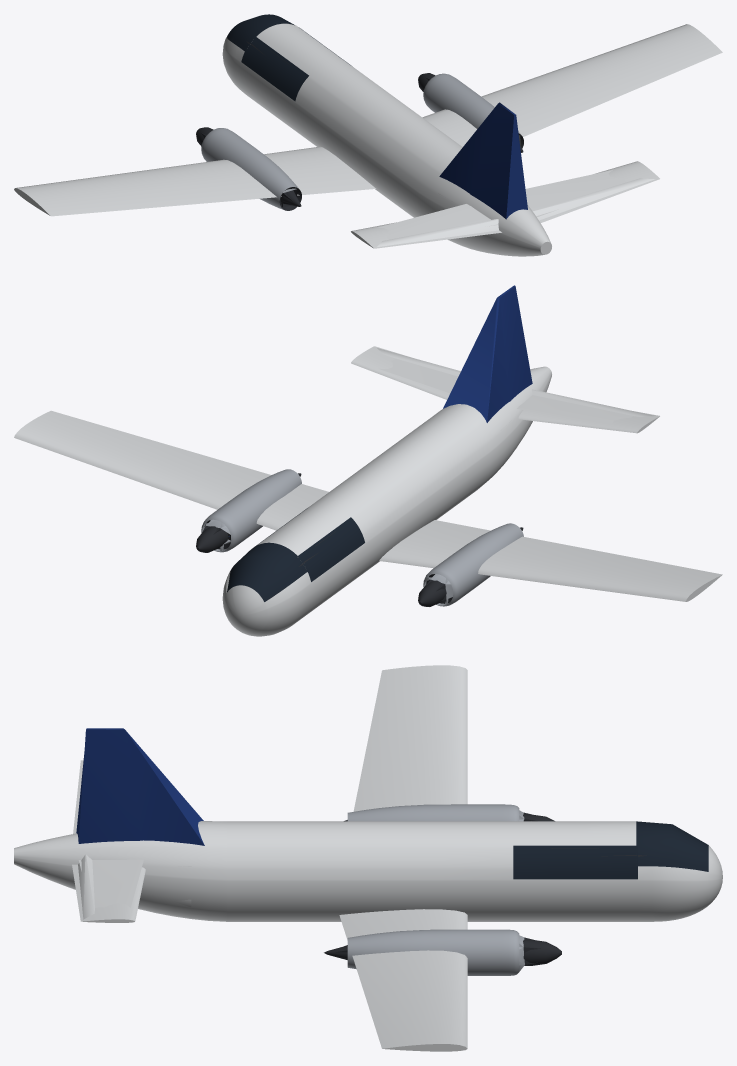
Rendered from lat_twin_piston.dae.
The picture shows the model from 3 angles, top to bottom: view 1: azimuth 30°, elevation 25°; view 2: azimuth 150°, elevation 25°; view 3: azimuth 270°, elevation 25°; orthographic projection. The views are drawn at different scales.
Parts seen in each view (by area): view 1: lat_twin_piston150, lat_twin_piston1, lat_twin_piston32; view 2: lat_twin_piston150, lat_twin_piston1, lat_twin_piston32; view 3: lat_twin_piston150, lat_twin_piston1, lat_twin_piston32.
Boxes of the visible parts, x1,y1,x2,y2 form: lat_twin_piston150: [14, 14, 722, 256]; lat_twin_piston1: [377, 102, 626, 239]; lat_twin_piston32: [22, 38, 655, 251]; lat_twin_piston150: [14, 346, 722, 636]; lat_twin_piston1: [228, 285, 632, 536]; lat_twin_piston32: [201, 348, 702, 604]; lat_twin_piston150: [14, 665, 722, 1051]; lat_twin_piston1: [76, 728, 204, 907]; lat_twin_piston32: [78, 810, 646, 1048].
Bounding box in the file's own units: 11.5 × 9.1 × 2.67.
